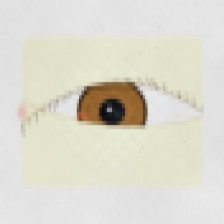foreign_body_visible: (78, 125, 125, 162)
